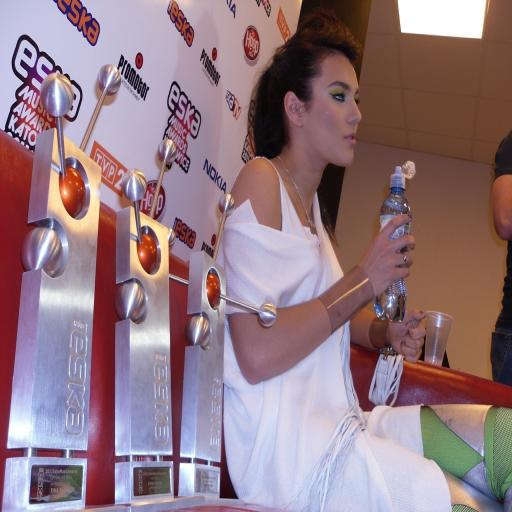Person: (204, 63, 504, 446)
no_gloves: (357, 228, 424, 288), (382, 288, 422, 332)
no_goggle: (307, 122, 365, 146)
no_helmet: (260, 75, 362, 113)
none: (237, 186, 357, 410)
